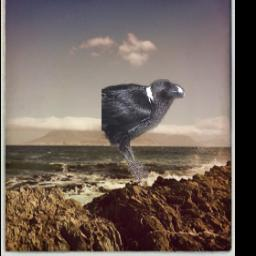Crow: (102, 79, 186, 183)
